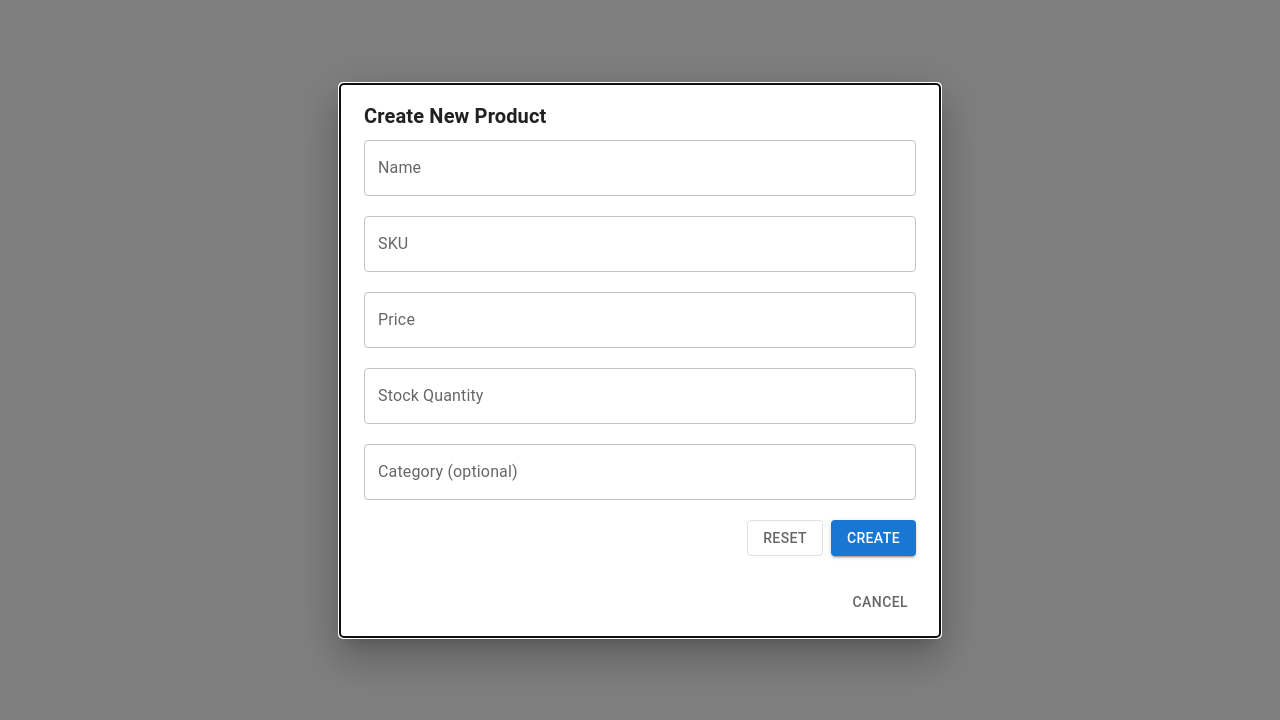
Scenario: ProductDialog › should show validation errors for empty fields
Click the button "Create": (873, 538) [831, 520, 916, 556]
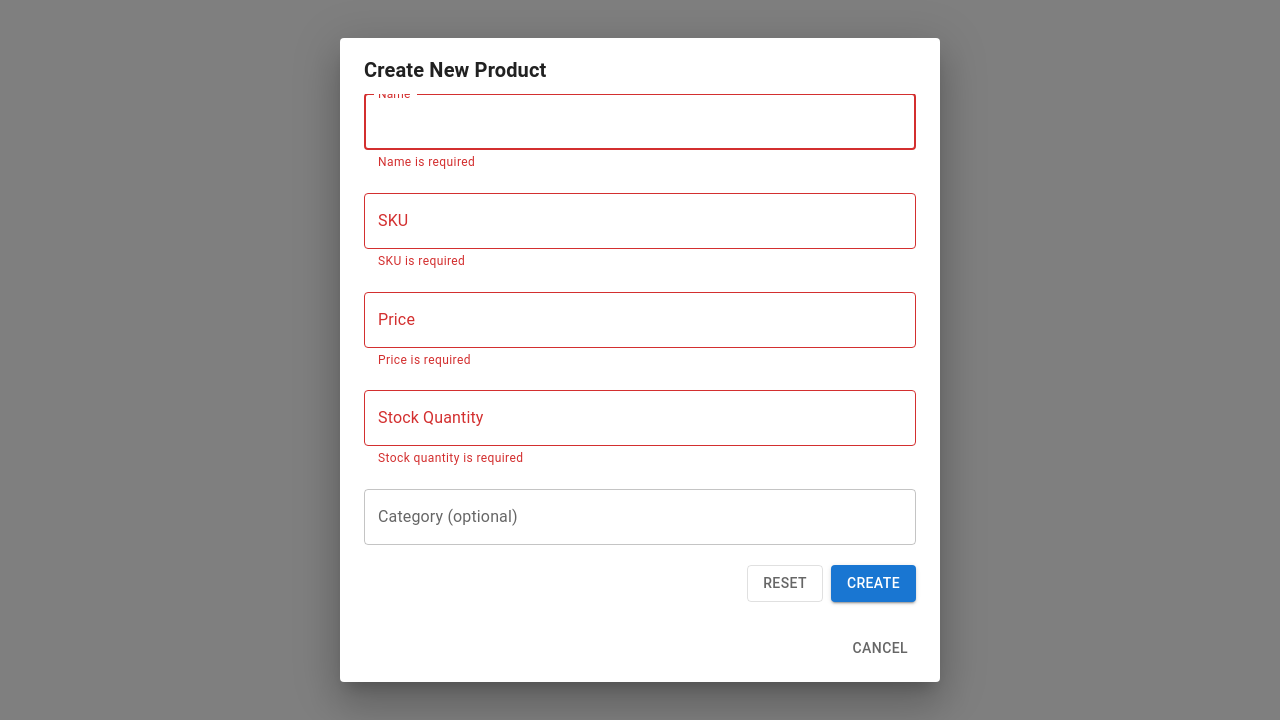
Check: the text "Name is required" is shown 4 times, box [378, 155, 475, 169]; [378, 254, 465, 268]; [378, 352, 471, 366]; [378, 451, 523, 465]
